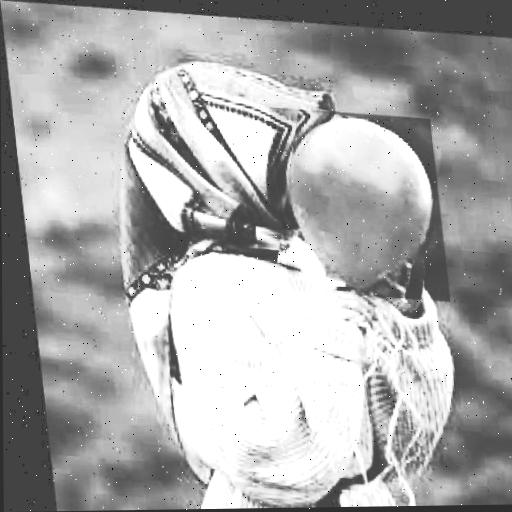balloon: (267, 99, 445, 296)
